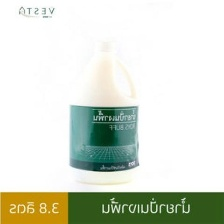cleaning_solution: (62, 29, 149, 190)
